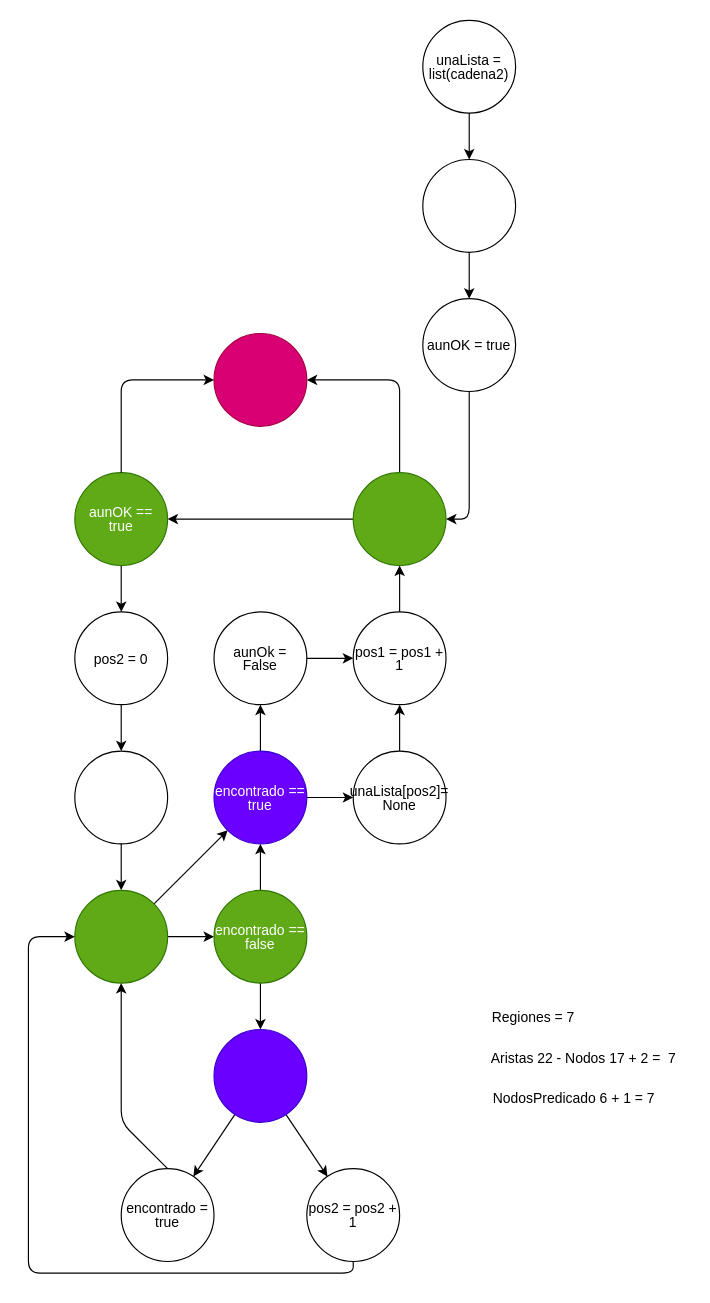
Image size: 710x1303. Some labels were removed from this diagram. The shapes that lost their labels are listed below. From the top down, each one's centre as x and y in pixels, then its label:
At [469,205]: "post1 = 0".
At [260,379]: "return aunOK".
At [399,519]: "pos1 < len(cadena1)".
At [121,797]: "encontrado = false".
At [121,936]: "pos2 < len(unaLista)".
At [260,1075]: "cadena1[pos1] == unaLista[pos2]".
